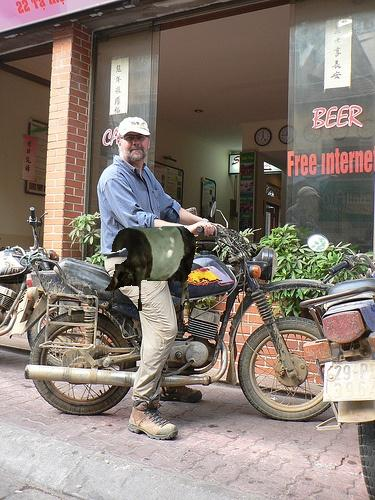tampered: (106, 227, 196, 311)
